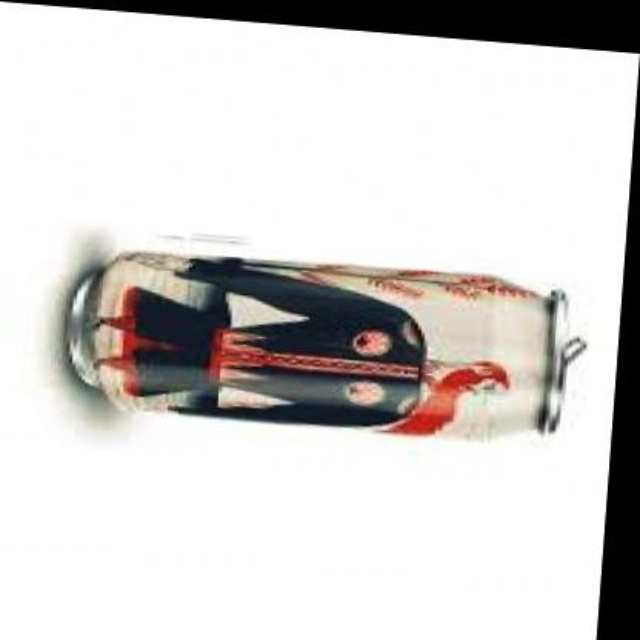trash: (65, 252, 583, 437)
